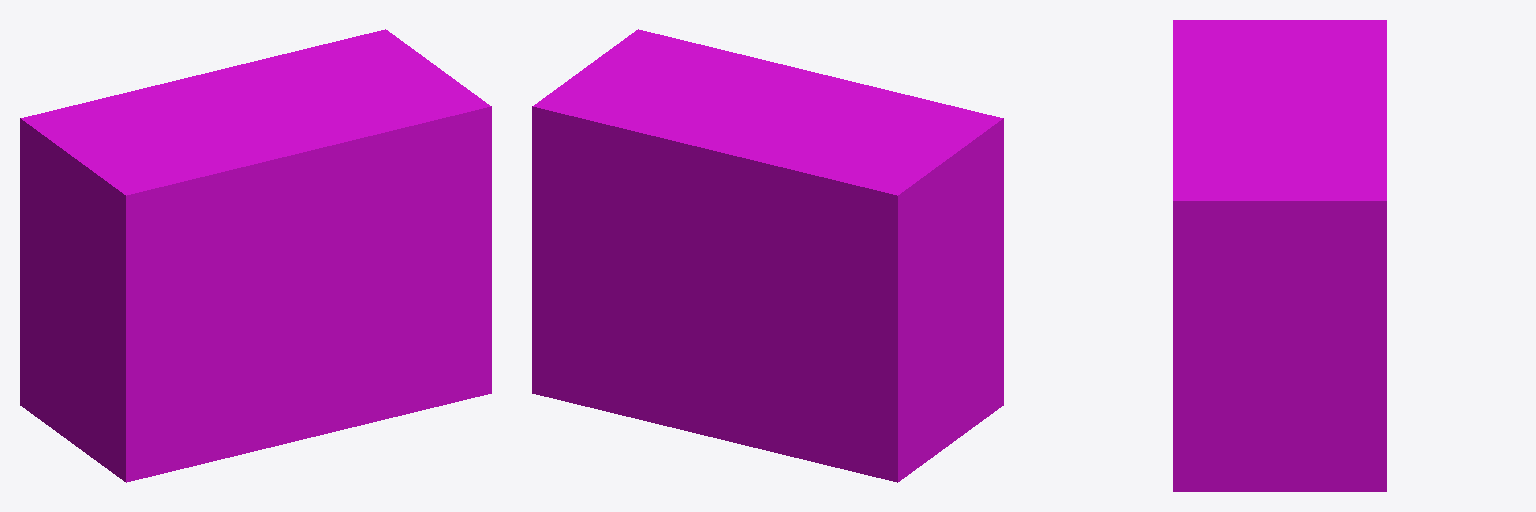
The robot description file, URDF, robot "rectangular_box":
<?xml version='1.0' encoding='UTF-8'?>
<robot name="rectangular_box">
  <link name="base_link">
    <inertial>
      <origin xyz="0.0 0.0 0.0" rpy="0.0 -0.0 0.0"/>
      <mass value="1.0"/>
      <inertia ixx="1.0" ixy="0.0" ixz="0.0" iyy="1.0" iyz="0.0" izz="1.0"/>
    </inertial>
    <visual name="base_link_visual">
      <geometry>
        <box size="0.954 0.477 0.716"/>
      </geometry>
      <origin xyz="0 0 0" rpy="0 0 0"/>
      <material name="object_color">
        <color rgba="0.9 0.1 0.9 1"/>
      </material>
    </visual>
    <collision name="base_link_collision">
      <geometry>
        <box size="0.954 0.477 0.716"/>
      </geometry>
      <origin xyz="0 0 0" rpy="0 0 0"/>
    </collision>
  </link>
</robot> 

--- Render facts (derived) ---
Views: 3 orthographic renders of the robot side by side, from view 1: azimuth 30°, elevation 25°; view 2: azimuth 150°, elevation 25°; view 3: azimuth 270°, elevation 25°.
Robot: rectangular_box — 1 links, 0 joints (none); root link base_link; default pose: all joints at 0.
Links seen in each view (by area): view 1: base_link; view 2: base_link; view 3: base_link.
Boxes of the visible links, x1,y1,x2,y2 form: base_link: [20, 29, 491, 482]; base_link: [532, 29, 1003, 482]; base_link: [1173, 20, 1386, 491].
Size in the robot's own frame: 0.954 by 0.477 by 0.716 metres.
Geometry: primitives only (box / cylinder / sphere), no mesh files.
